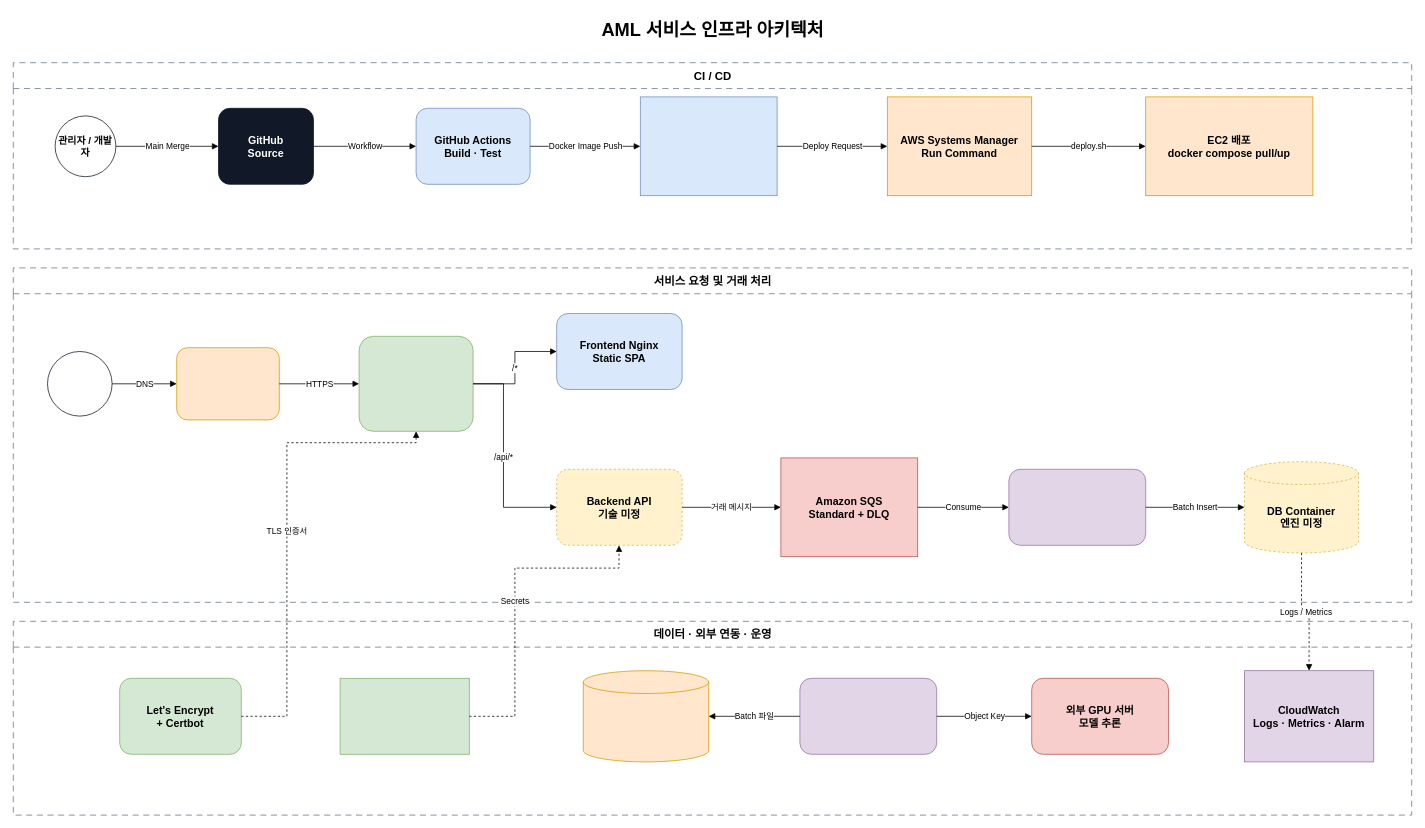
The diagram is 1425 pixels wide and 828 high, and some of its shapes have lost their labels. Here are the shapes that lost their labels. From the top down, the centre of each, then its label:
the point at 708,146: Docker Hub Private Repository
the point at 79,383: Client
the point at 227,383: Cloudflare DNS
the point at 415,383: Nginx Reverse Proxy HTTPS 443
the point at 1077,507: Ingestion Worker Micro-batch
the point at 404,716: Parameter Store SecureString
the point at 646,716: Amazon S3 파일 · Batch 입력
the point at 868,716: Model Batch Worker
